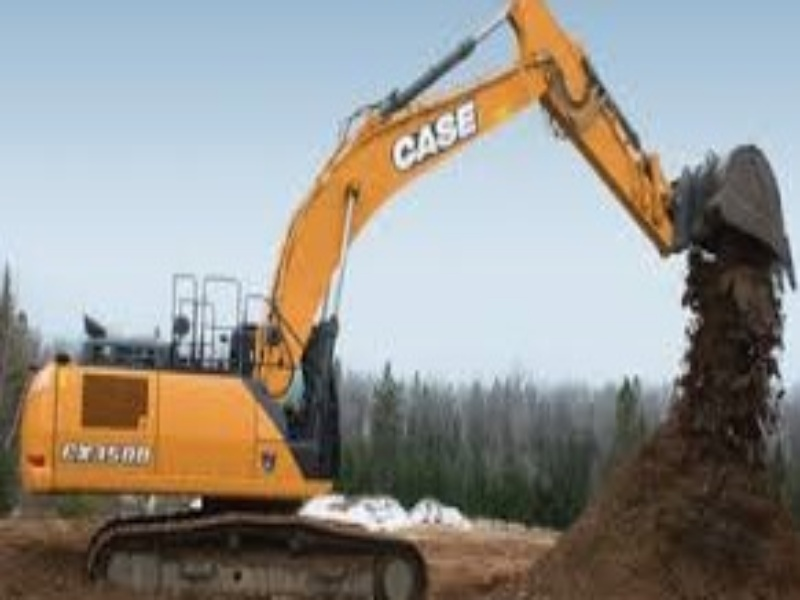wajueji: (12, 200, 487, 600)
